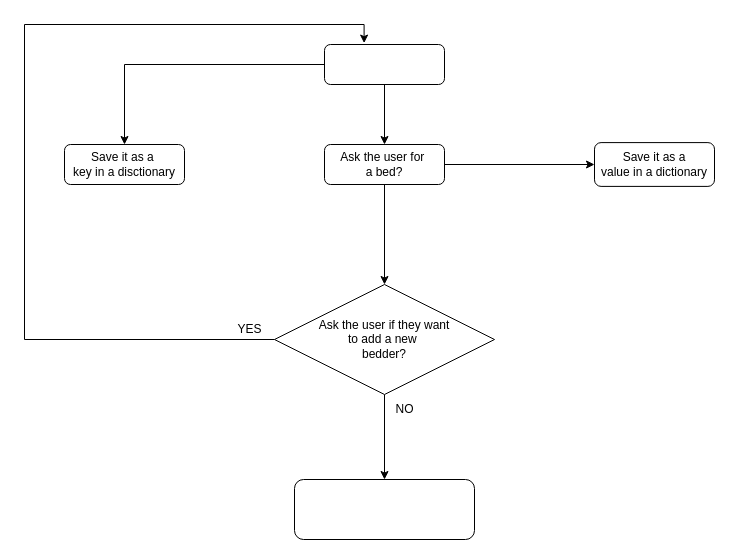
Some shapes in this 732 by 557 pixel diagram are drawn without their labels. Here are the shapes that lost their labels. From the top down, the centre of each, then its label:
point (384, 64): Ask the user for a name?
point (384, 509): Find the highest bedder between the users
